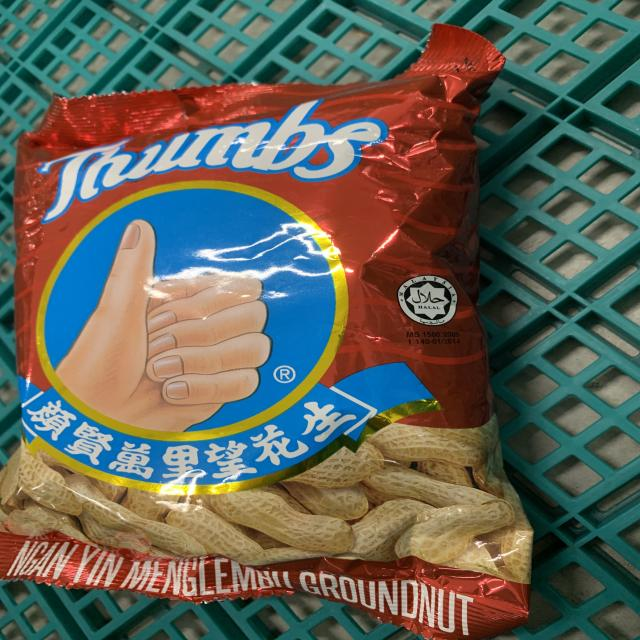object_name: (17, 73, 506, 615)
